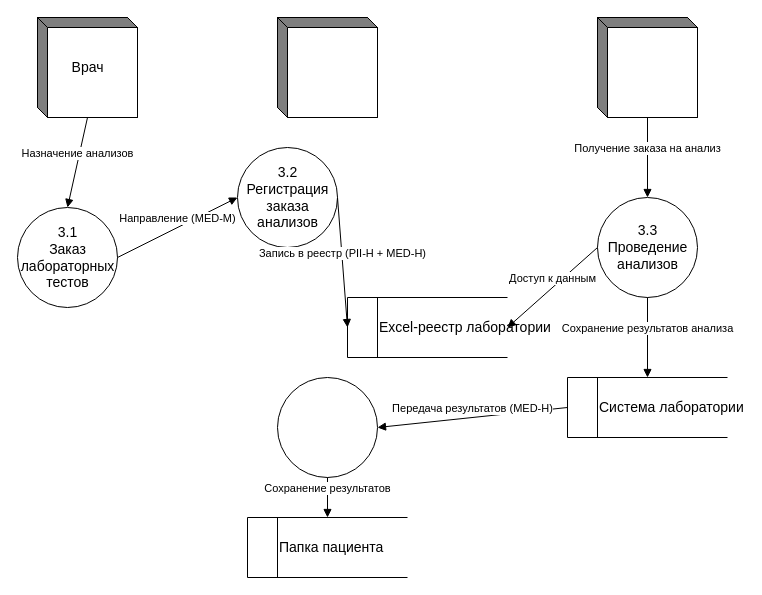
Some shapes in this 762 by 595 pixel diagram are drawn without their labels. The shapes that lost their labels are listed below. From the top down, each one's box as (x1, y1, x2, y2) in pixels, then its label:
(276, 16, 378, 118): Сотрудник ресепшена
(596, 16, 698, 118): Лаборатория
(276, 376, 378, 478): 3.4 Запись результатов
